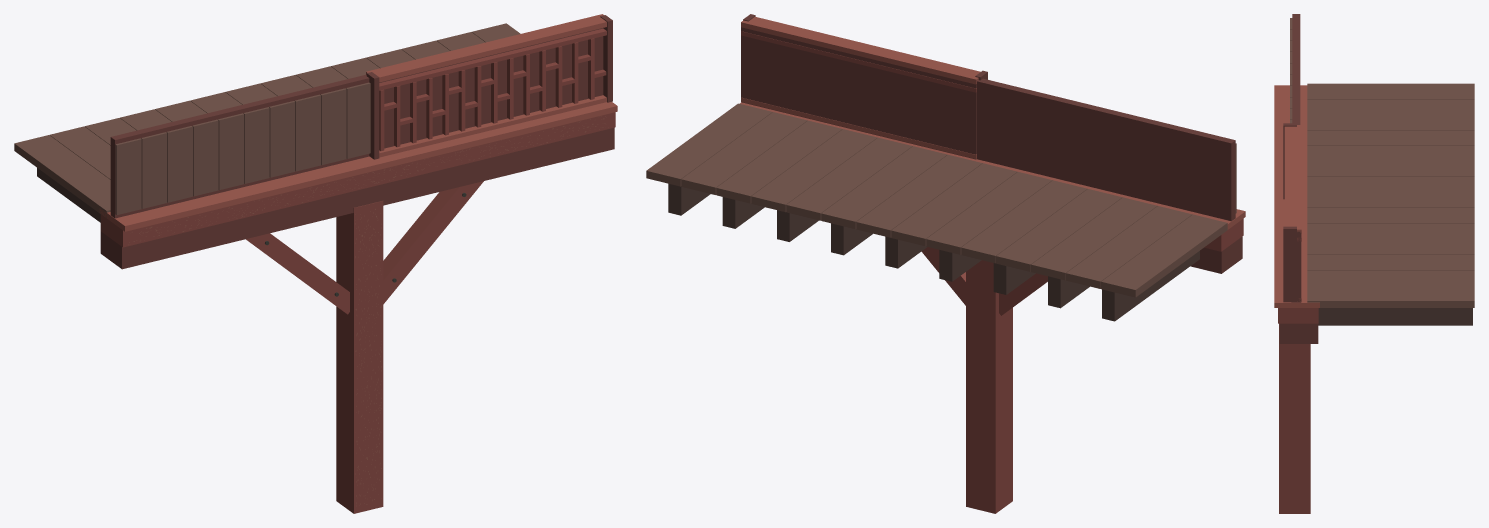
Rendered from hongkou-tanggu-lane-veranda-knee-braces-web.glb.
3 renders of one model, left to right at view 1: azimuth 30°, elevation 25°; view 2: azimuth 150°, elevation 25°; view 3: azimuth 270°, elevation 25°, orthographic. The views are drawn at different scales.
Visible parts, largest first — view 1: 塘沽路73弄住宅红漆外廊柱、成对斜撑与上层格板; view 2: 塘沽路73弄住宅红漆外廊柱、成对斜撑与上层格板; view 3: 塘沽路73弄住宅红漆外廊柱、成对斜撑与上层格板.
Part boxes in pixels (x1,y1,x2,y2): 塘沽路73弄住宅红漆外廊柱、成对斜撑与上层格板: [14, 14, 617, 513]; 塘沽路73弄住宅红漆外廊柱、成对斜撑与上层格板: [646, 14, 1245, 513]; 塘沽路73弄住宅红漆外廊柱、成对斜撑与上层格板: [1274, 14, 1474, 513].
Bounding box in the file's own units: 3 × 2.49 × 1.17.
